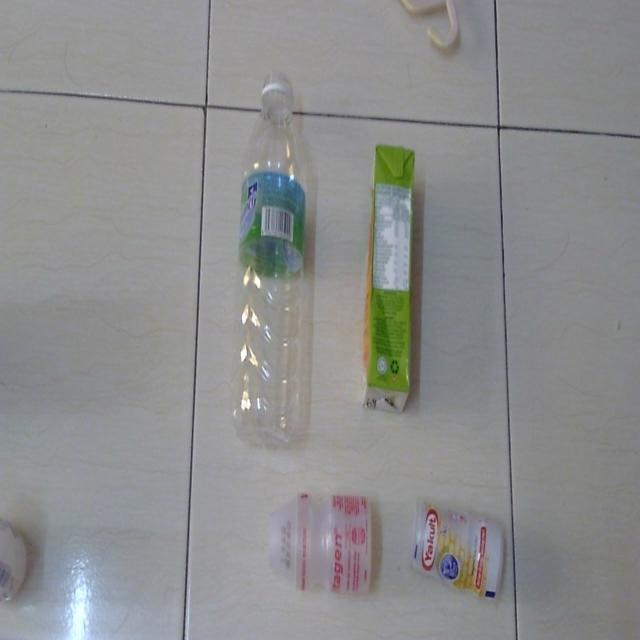plastic_laydown_0rotation: (266, 487, 378, 602), (406, 491, 506, 611)
plastic_laydown_90rotation: (229, 61, 317, 446), (363, 136, 422, 427)
